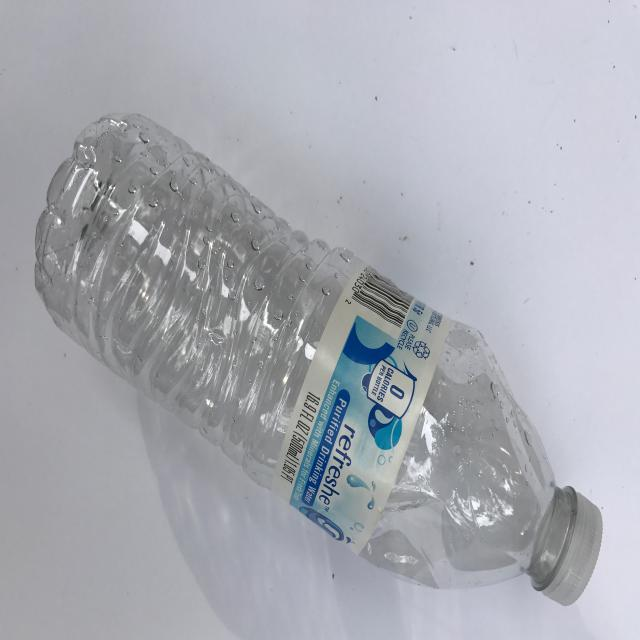plastic: (34, 111, 602, 606)
